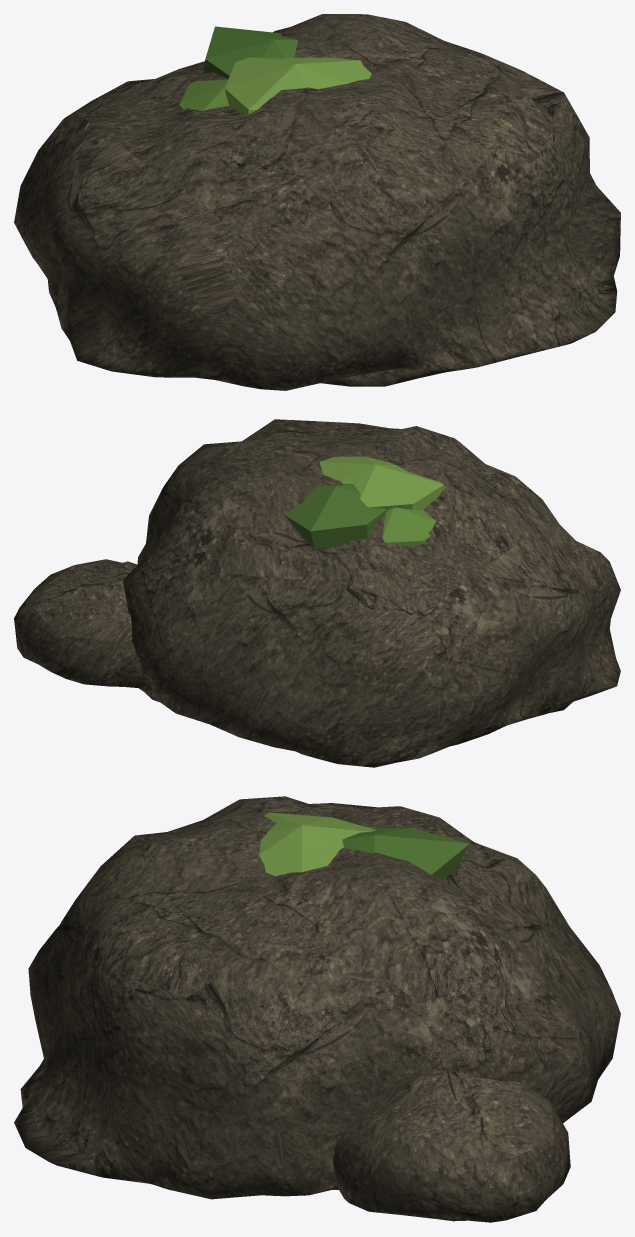
The model's file is rock_moss_01_real.glb.
3 renders of one model, top to bottom at view 1: azimuth 30°, elevation 25°; view 2: azimuth 150°, elevation 25°; view 3: azimuth 270°, elevation 25°, orthographic. The views are drawn at different scales.
Parts seen in each view (by area): view 1: rock_moss_01; view 2: rock_moss_01; view 3: rock_moss_01.
Part boxes in pixels (<box>): rock_moss_01: <box>14,14,620,390</box>; rock_moss_01: <box>14,419,620,767</box>; rock_moss_01: <box>14,796,620,1222</box>.
Size of the model in its own units: 3.71 by 1.53 by 3.14.
6 materials, 6 textured.
